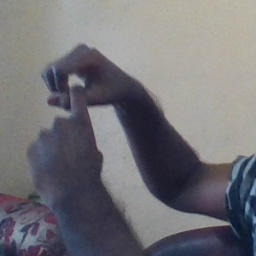Q: (25, 44, 126, 178)
